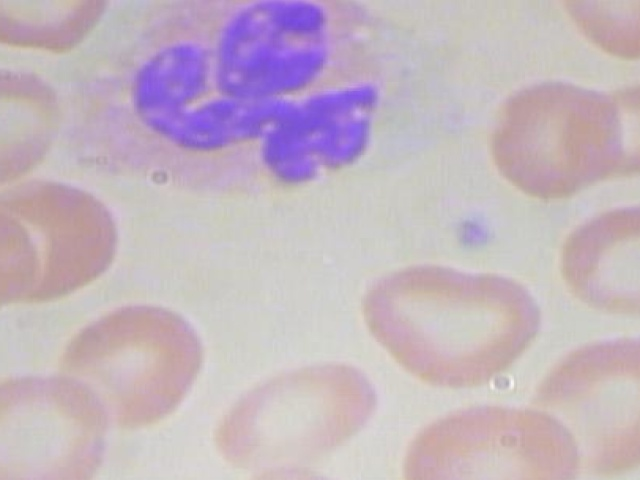RBC: (350, 244, 552, 401), (203, 342, 390, 480), (46, 292, 220, 438), (508, 330, 640, 480), (484, 80, 631, 201), (399, 399, 588, 480), (547, 187, 640, 334), (0, 371, 116, 480), (0, 61, 76, 192), (0, 0, 114, 64), (582, 69, 640, 189), (544, 0, 640, 71), (0, 192, 46, 328), (202, 454, 388, 480)
WBC: (55, 0, 462, 213)
